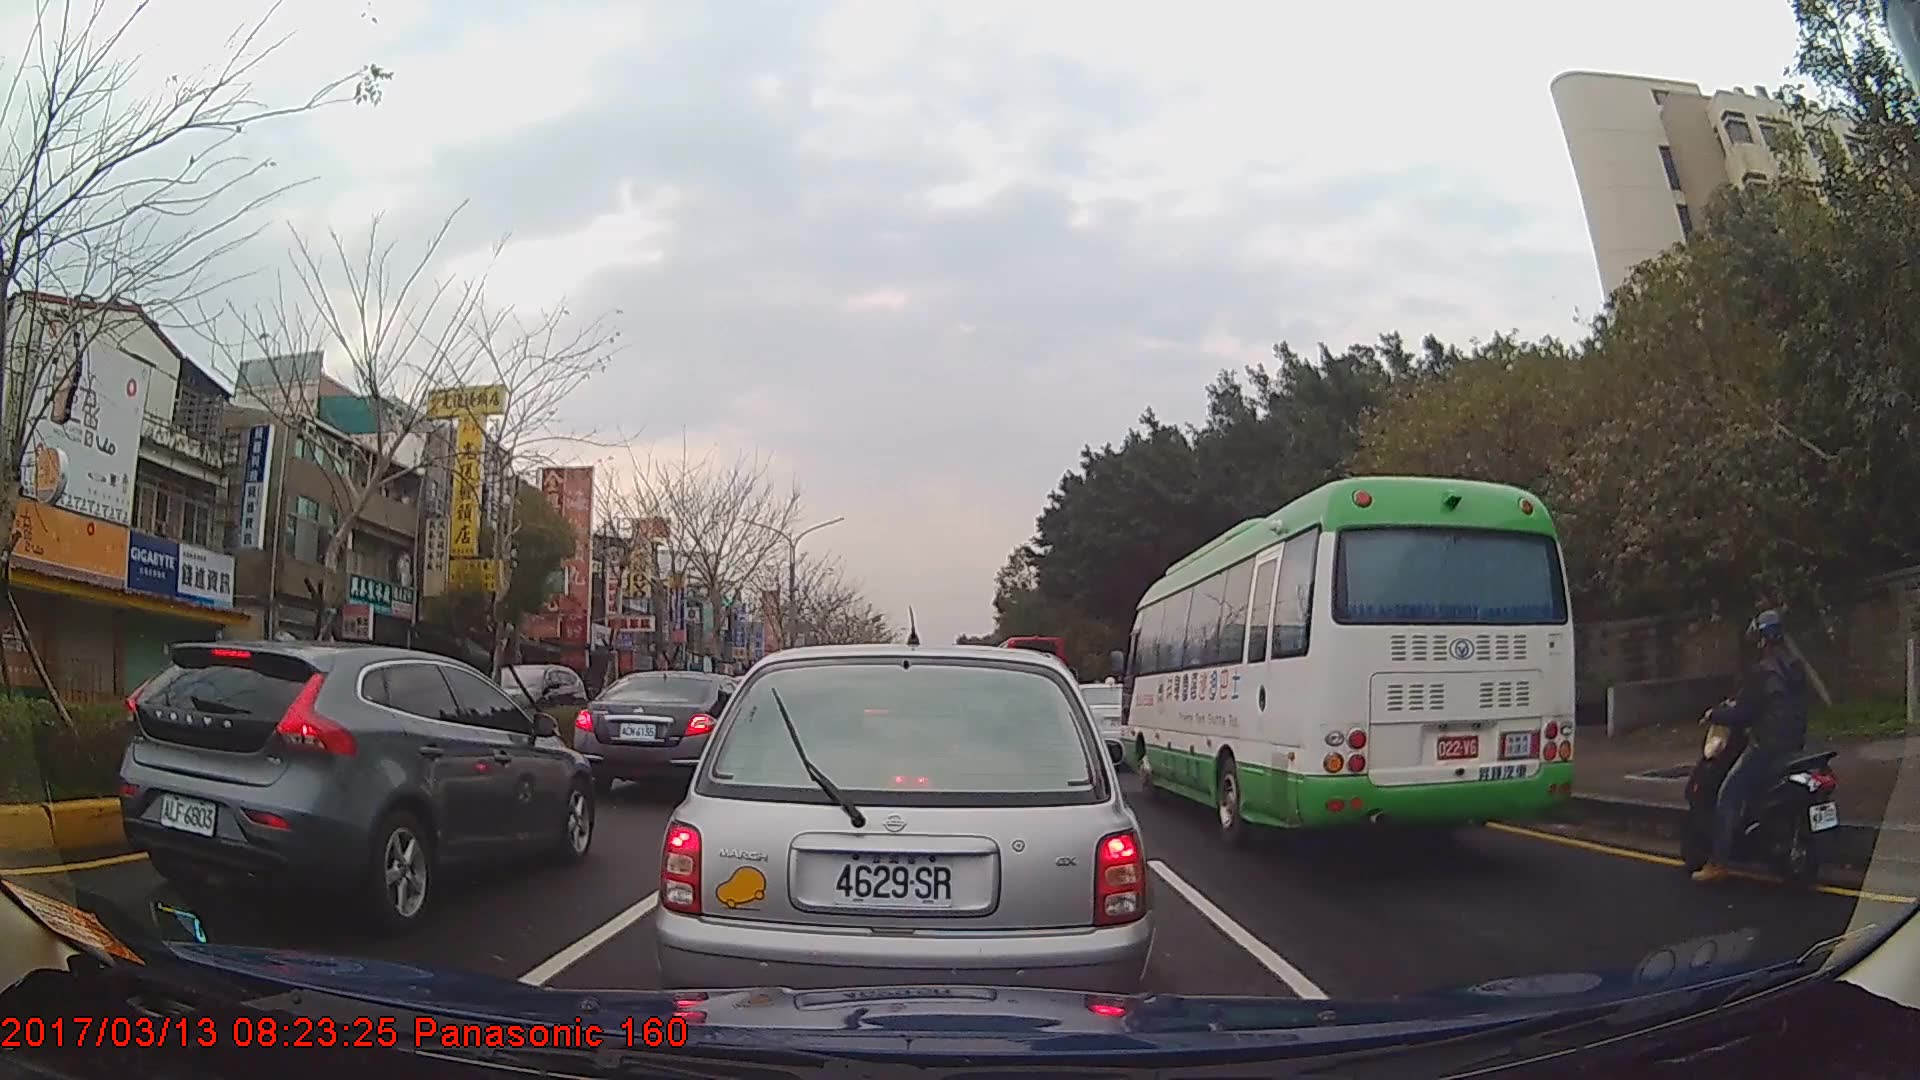rider: (1683, 606, 1840, 885)
vehicle: (652, 639, 1150, 1035), (1120, 474, 1576, 851), (117, 642, 593, 928), (571, 670, 760, 807), (466, 661, 584, 739)
